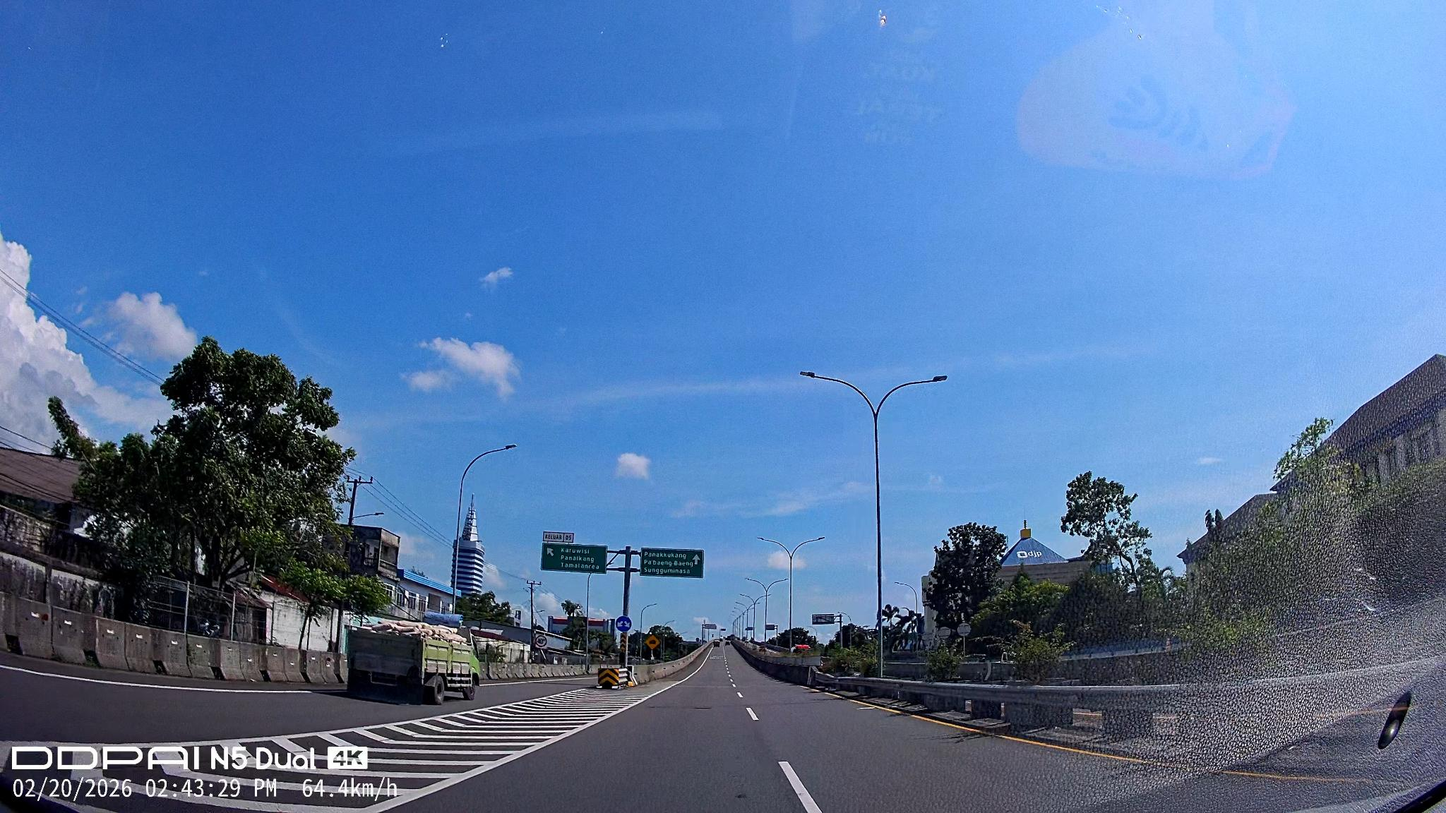rambu_teks: (540, 542, 608, 574), (639, 547, 705, 578)
